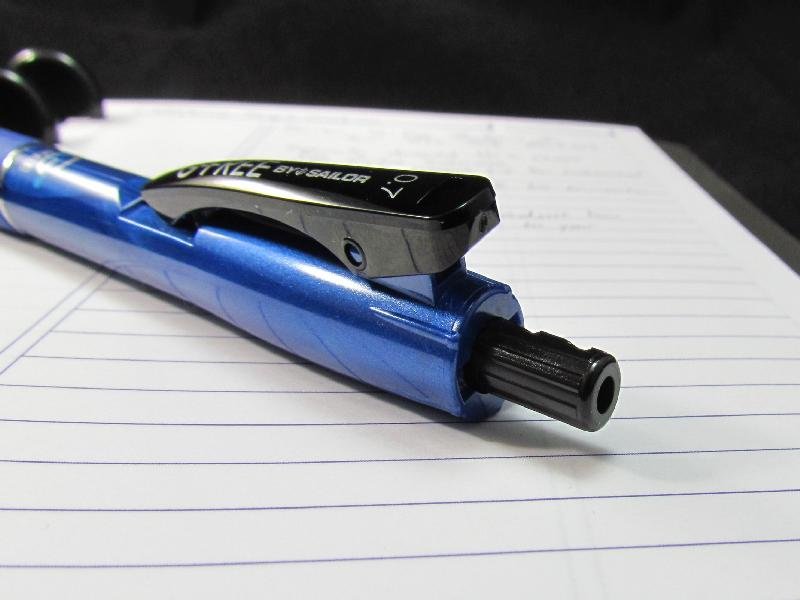pen: (1, 127, 629, 453)
